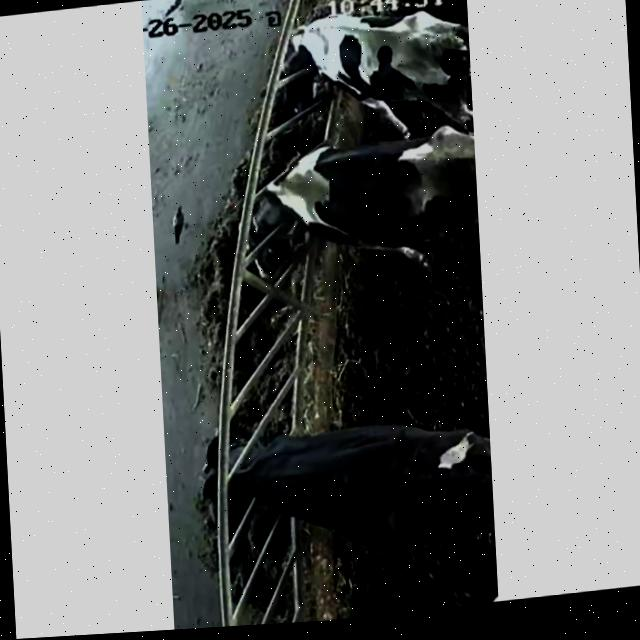eat: (195, 127, 391, 289), (177, 390, 374, 543), (233, 0, 408, 132)
